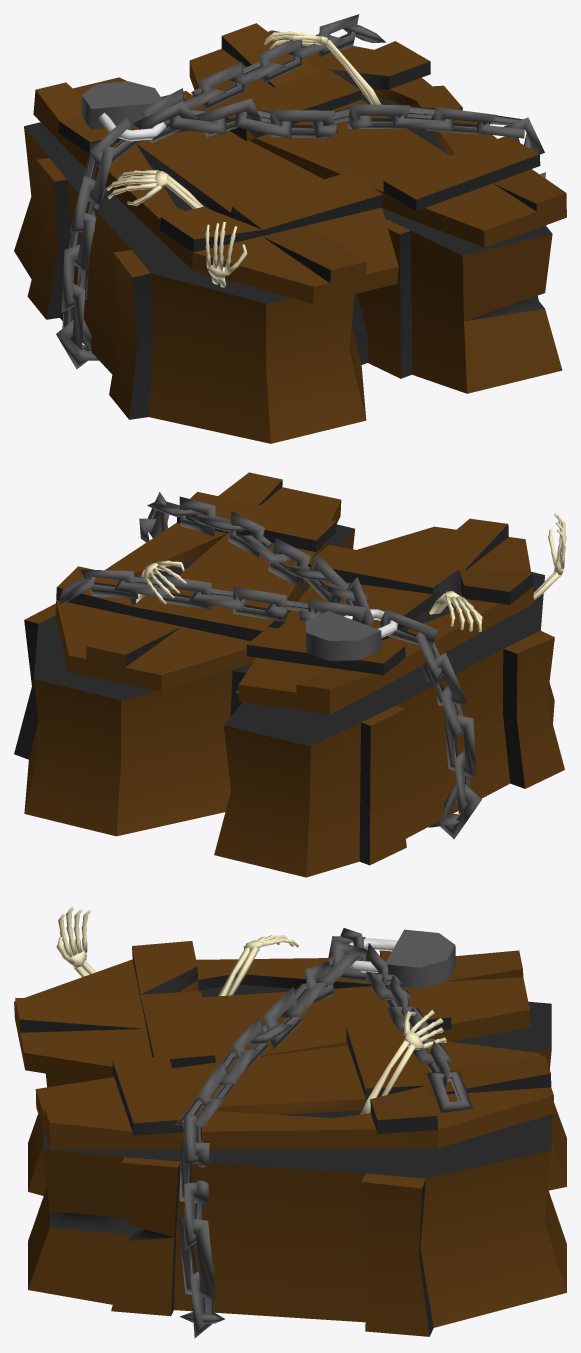
The model's file is coffin.glb.
3 views of the same model, one above another, from view 1: azimuth 30°, elevation 25°; view 2: azimuth 150°, elevation 25°; view 3: azimuth 270°, elevation 25° (orthographic). The views are drawn at different scales.
Visible parts, largest first — view 1: Coffin; view 2: Coffin; view 3: Coffin.
Boxes of the visible parts, x1,y1,x2,y2 form: Coffin: [14, 14, 566, 443]; Coffin: [14, 472, 566, 877]; Coffin: [14, 906, 566, 1338].
Bounding box in the file's own units: 2.12 × 1.14 × 2.18.
1 material, 1 textured.
